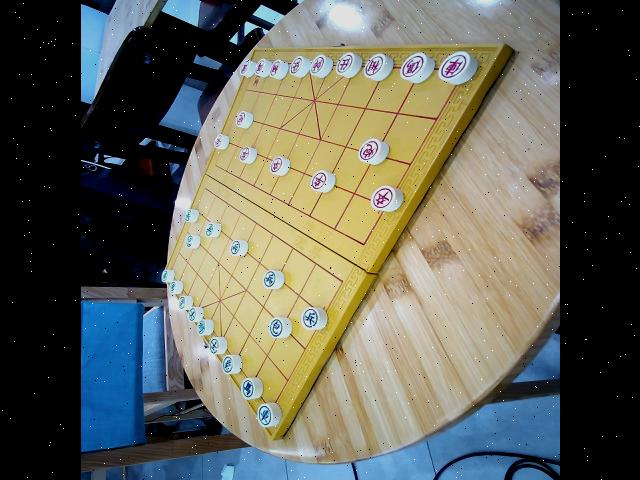piece: (436, 51, 476, 85), (398, 52, 436, 84), (368, 186, 404, 213), (356, 138, 390, 166), (362, 54, 394, 82), (334, 52, 362, 78), (300, 306, 328, 330), (255, 403, 281, 427), (308, 171, 334, 193), (266, 317, 292, 339), (308, 55, 332, 78), (239, 378, 263, 400), (287, 56, 309, 78), (268, 156, 290, 176), (261, 270, 283, 290), (220, 355, 242, 375), (268, 60, 288, 80), (233, 111, 253, 129), (228, 240, 248, 257), (238, 147, 255, 165), (238, 60, 255, 78), (208, 337, 226, 354), (195, 319, 212, 336), (202, 222, 220, 238), (211, 134, 229, 150), (183, 235, 200, 249), (182, 209, 198, 223), (186, 307, 202, 321), (176, 296, 192, 310), (160, 270, 174, 284), (168, 281, 182, 295)
